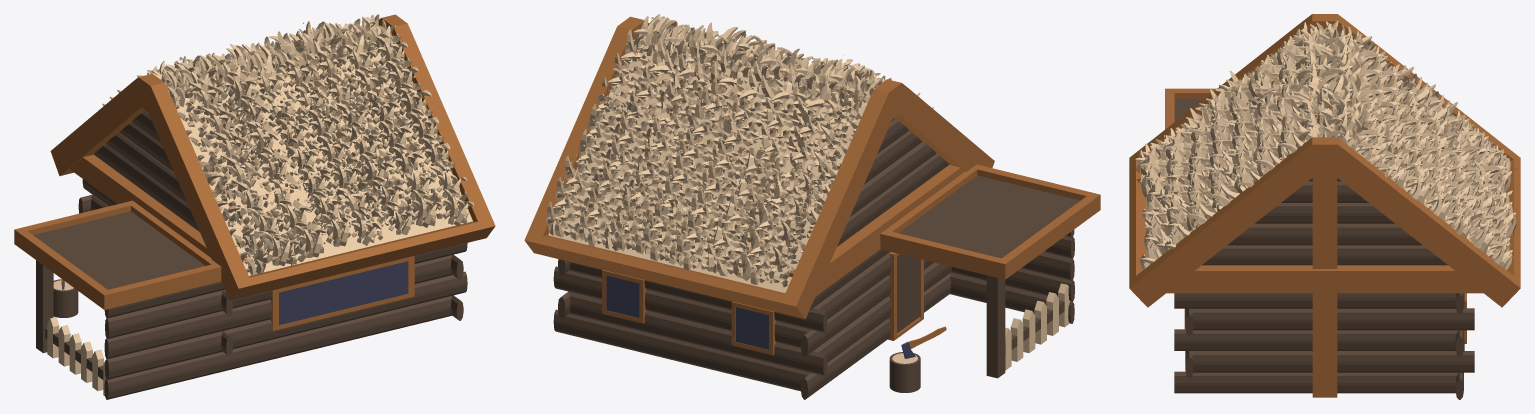
The model's file is WoodHouse 1.fbx.
3 renders of one model, left to right at view 1: azimuth 30°, elevation 25°; view 2: azimuth 150°, elevation 25°; view 3: azimuth 270°, elevation 25°, orthographic. The views are drawn at different scales.
Parts seen in each view (by area): view 1: deur; view 2: deur; view 3: deur.
Part boxes in pixels (x1,y1,x2,y2): deur: [14, 14, 495, 399]; deur: [524, 14, 1100, 399]; deur: [1129, 14, 1520, 399].
Size of the model in its own units: 1914 by 1256 by 1667.
